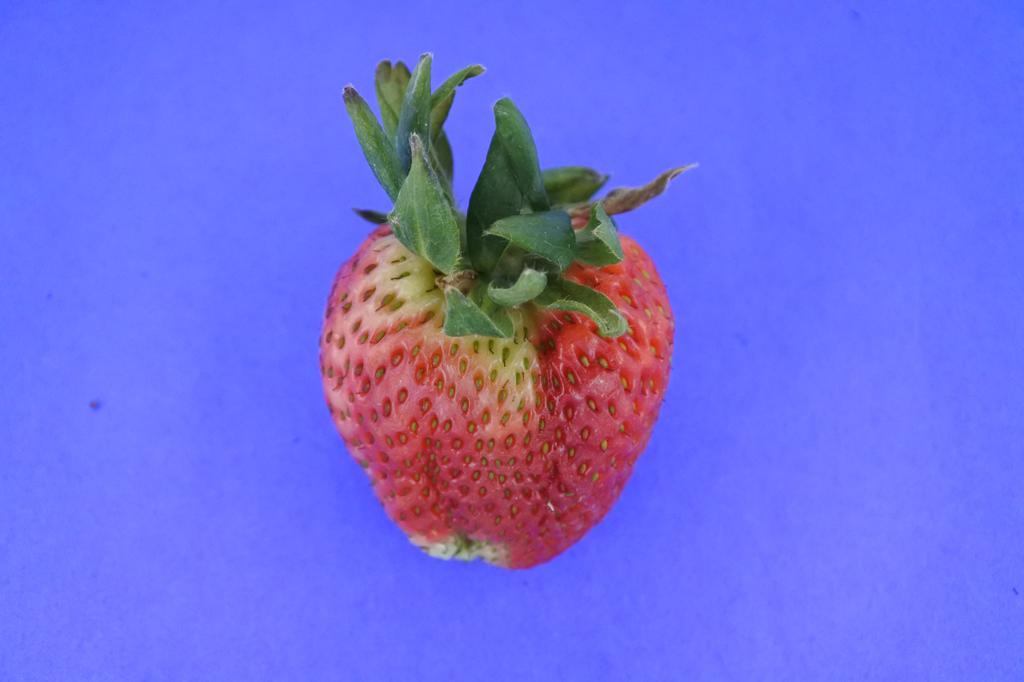red strawberry: (318, 50, 694, 574)
